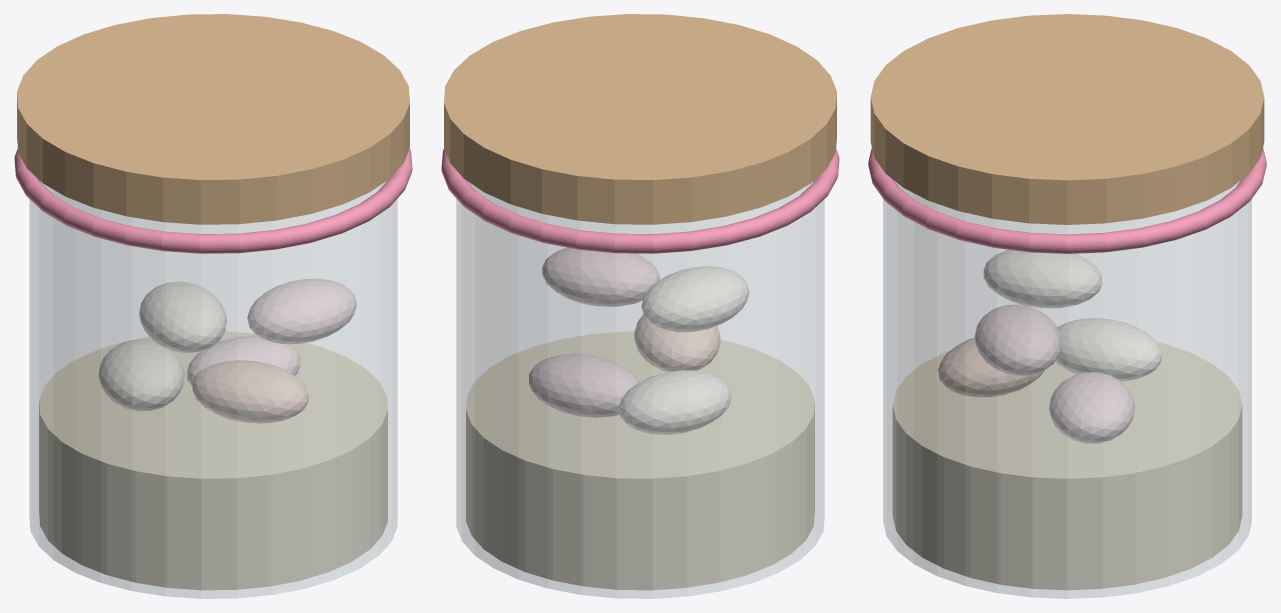
File: shell-jar.glb
3 views of the same model, side by side, from view 1: azimuth 30°, elevation 25°; view 2: azimuth 150°, elevation 25°; view 3: azimuth 270°, elevation 25° (orthographic).
Parts seen in each view (by area): view 1: part0, part2, part1, part3, part6, part7, part8, part5, part4; view 2: part0, part2, part1, part3, part5, part8, part7, part4, part6; view 3: part0, part2, part1, part3, part8, part5, part7, part4, part6.
Part boxes in pixels (bbox=[...]): part0: bbox=[29, 178, 397, 598]; part2: bbox=[17, 14, 409, 224]; part1: bbox=[39, 331, 387, 590]; part3: bbox=[14, 148, 412, 253]; part6: bbox=[192, 360, 308, 423]; part7: bbox=[247, 278, 356, 344]; part8: bbox=[139, 281, 226, 353]; part5: bbox=[98, 339, 184, 411]; part4: bbox=[187, 335, 300, 385]; part0: bbox=[456, 178, 824, 598]; part2: bbox=[444, 14, 836, 224]; part1: bbox=[466, 331, 814, 590]; part3: bbox=[441, 148, 839, 253]; part5: bbox=[619, 370, 731, 434]; part8: bbox=[641, 266, 749, 332]; part7: bbox=[542, 247, 659, 306]; part4: bbox=[529, 353, 639, 417]; part6: bbox=[634, 314, 720, 371]; part0: bbox=[883, 179, 1251, 598]; part2: bbox=[870, 14, 1264, 224]; part1: bbox=[892, 342, 1242, 590]; part3: bbox=[868, 147, 1266, 253]; part8: bbox=[983, 249, 1101, 308]; part5: bbox=[1055, 318, 1161, 381]; part7: bbox=[974, 304, 1061, 375]; part4: bbox=[1049, 372, 1134, 443]; part6: bbox=[938, 337, 1043, 397].
Size of the model in its own units: 0.162 by 0.19 by 0.162.
